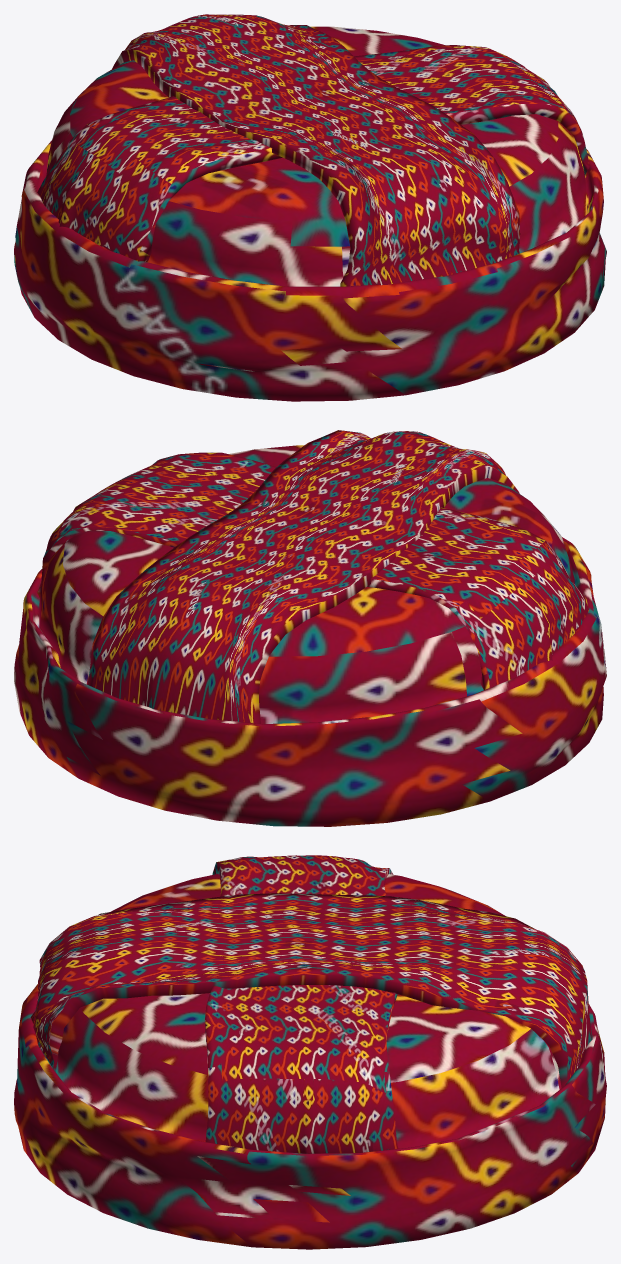
The model's file is topi (2).fbx.
The picture shows the model from 3 angles, top to bottom: view 1: azimuth 30°, elevation 25°; view 2: azimuth 150°, elevation 25°; view 3: azimuth 270°, elevation 25°; orthographic projection.
Parts seen in each view (by area): view 1: Plane.001; view 2: Plane.001; view 3: Plane.001.
Part boxes in pixels (<box>): Plane.001: <box>14,14,606,401</box>; Plane.001: <box>14,430,606,826</box>; Plane.001: <box>14,855,606,1249</box>.
Size of the model in its own units: 204 by 72.43 by 204.
Materials: 3 (3 with a texture image).
